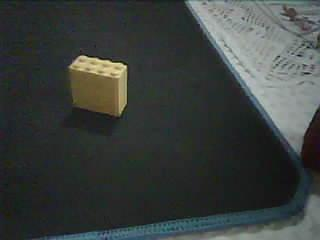lego: (67, 54, 128, 117)
